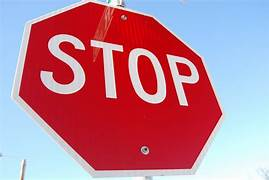stop: (13, 2, 221, 174)
